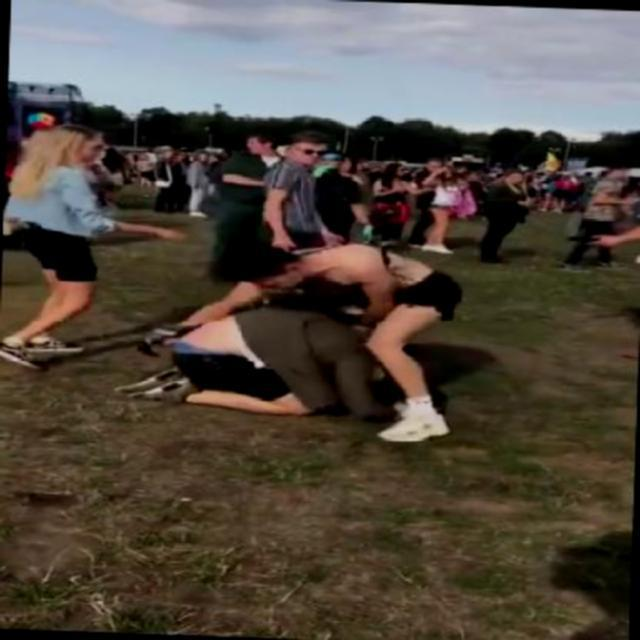fight: (143, 234, 472, 442)
non-fight: (0, 119, 120, 372)
